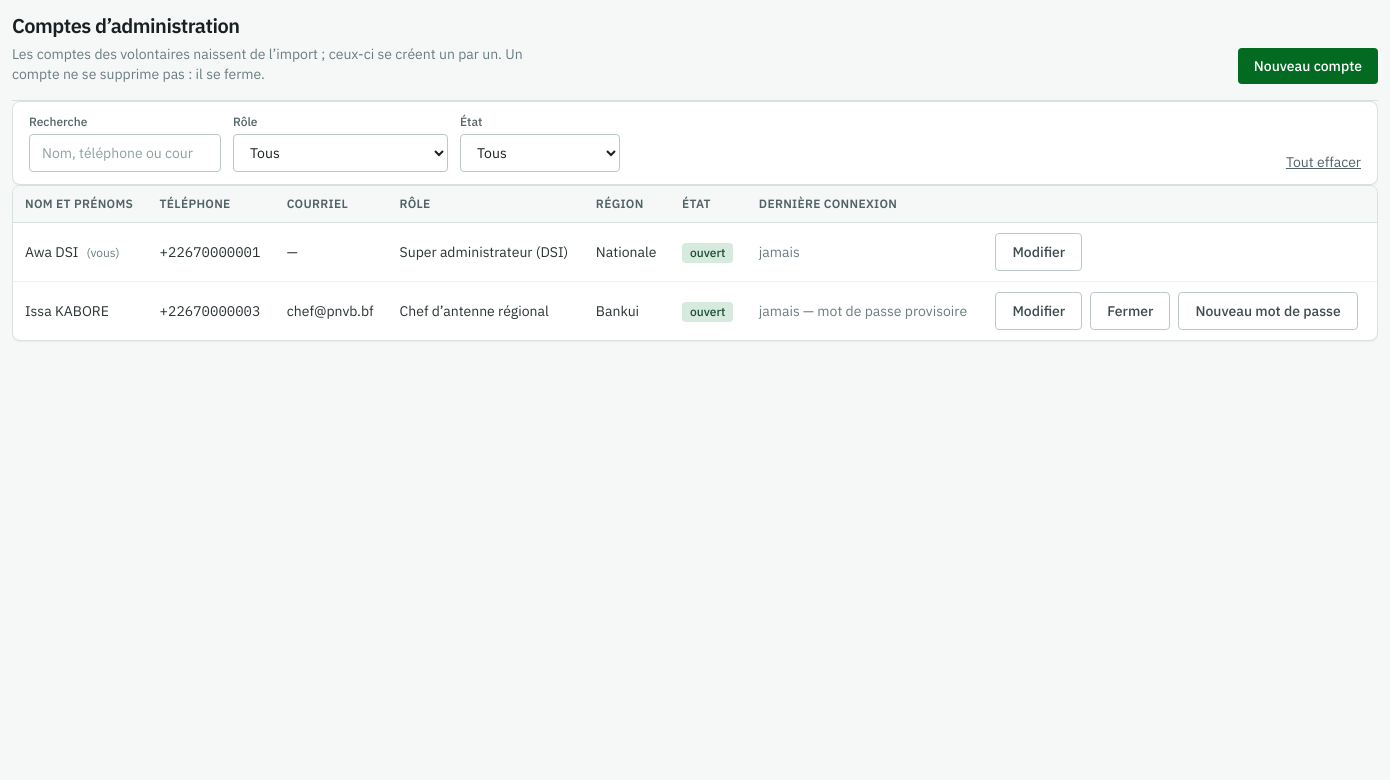
Test: Comptes d’administration › ne propose ni de se fermer soi-même, ni de fermer sans motif
The width and height of the screenshot is (1390, 780).
Step 1. Click the button "Fermer" → click(1130, 311), box [1090,292,1170,330]
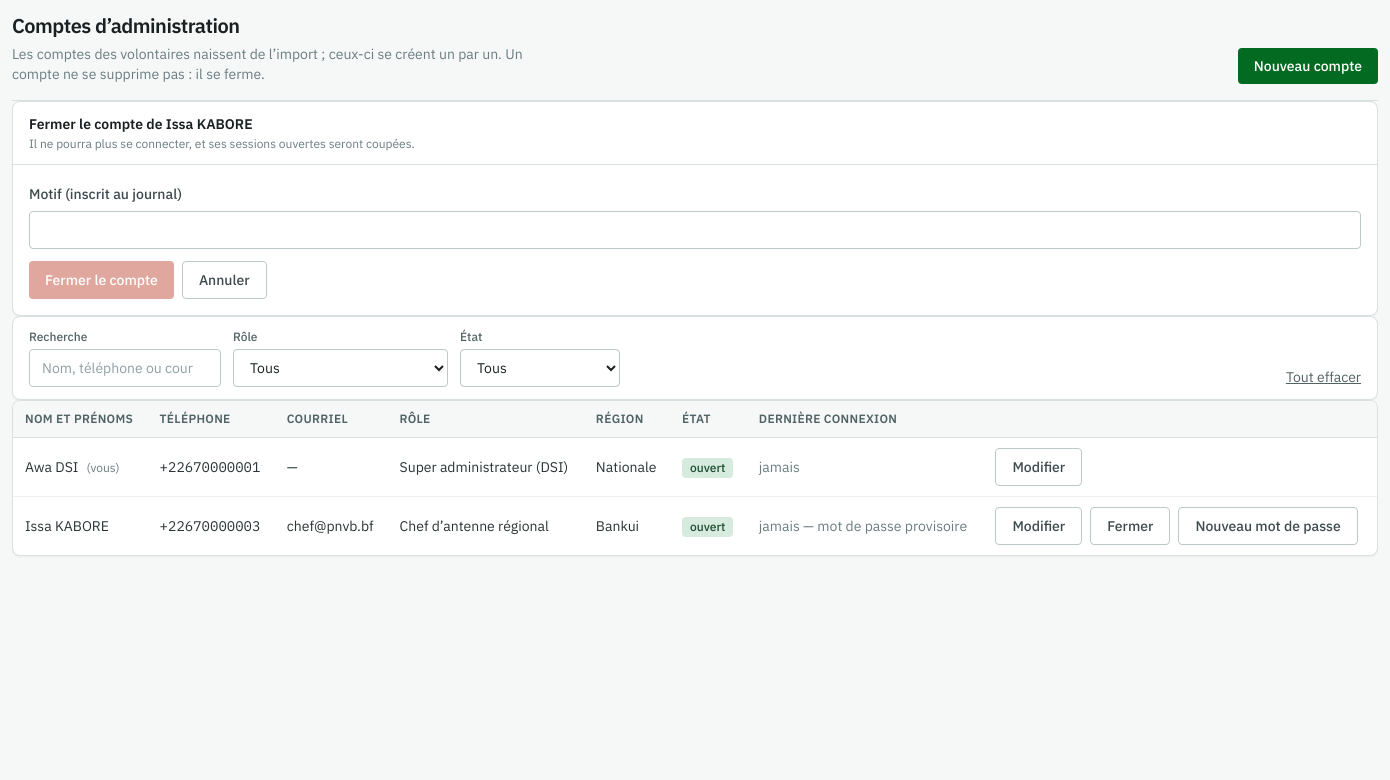
Now the button "Fermer le compte" is disabled, box [29,261,174,299]
Step 2. Type "Départ du projet" into the field labelled "Motif (inscrit au journal)" → (695, 230), box [29,211,1361,249]
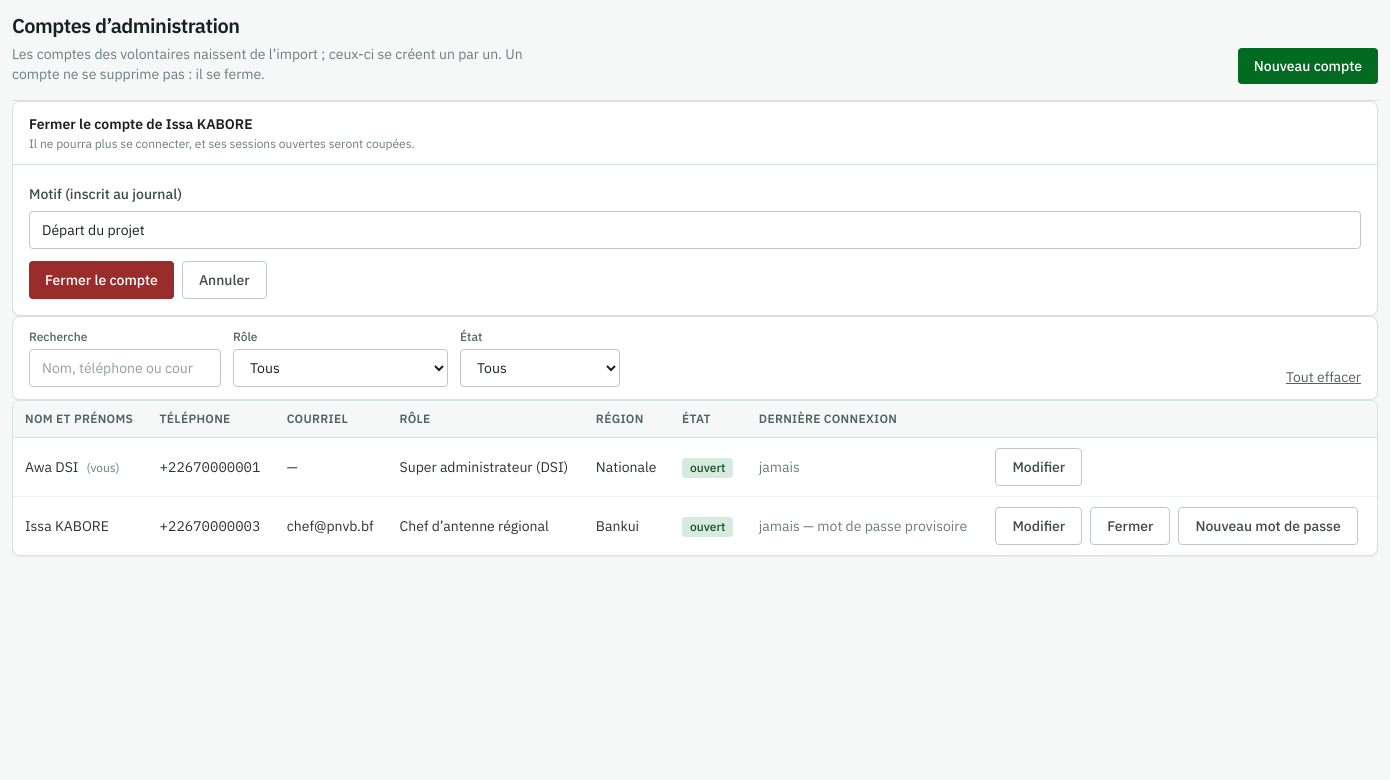
Step 3. Click the button "Fermer le compte" → click(101, 280), box [29,261,174,299]
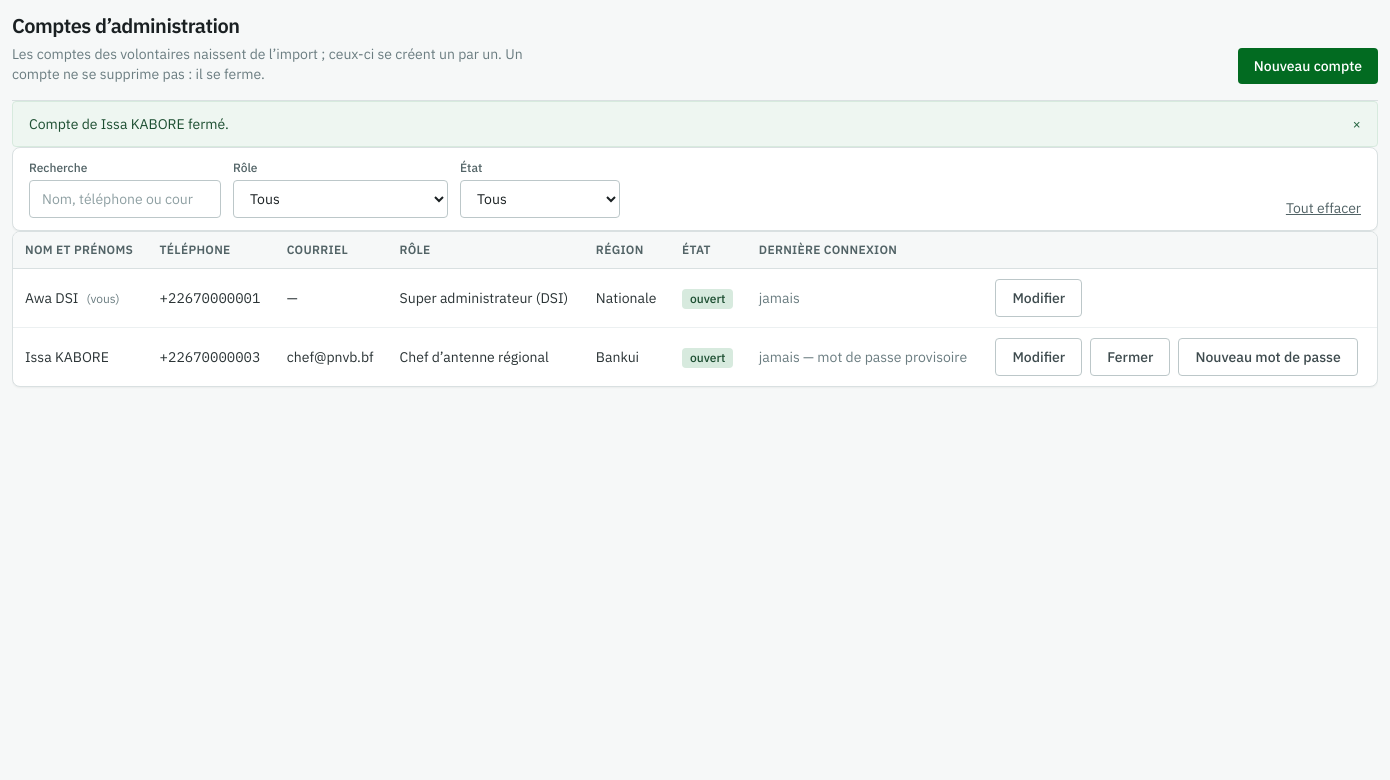
Now the text "Compte de Issa KABORE fermé." is shown, box [29,114,229,134]
